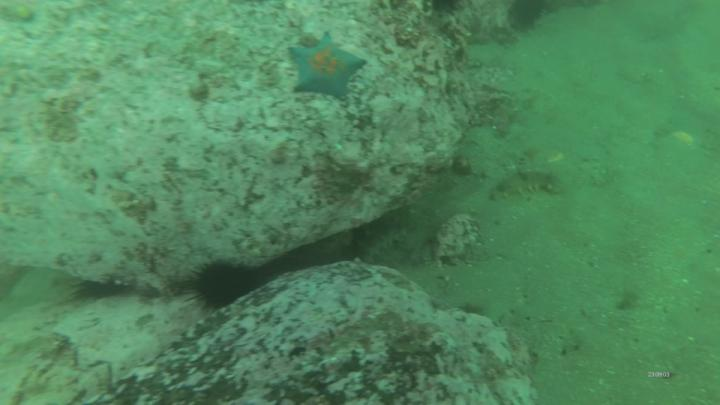echinus: (190, 260, 254, 308)
holothurian: (492, 169, 566, 200)
starfish: (287, 30, 369, 102)
